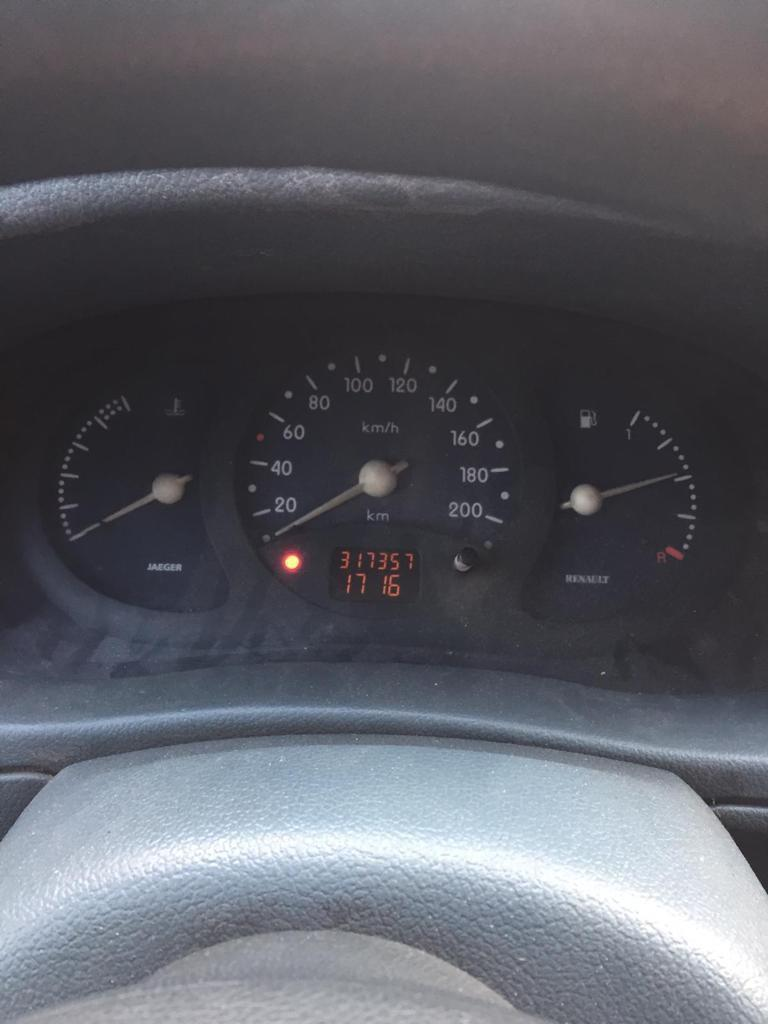1: (343, 572, 352, 595), (355, 551, 364, 569), (380, 573, 387, 595)
3: (338, 550, 350, 569), (376, 551, 388, 570)
5: (388, 551, 400, 571)
7: (354, 571, 367, 595), (365, 550, 376, 569), (403, 552, 414, 571)
odometer: (324, 541, 426, 610)
